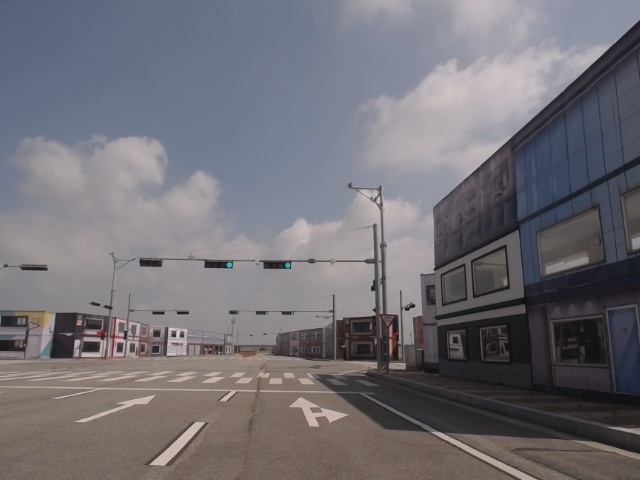straight_green_4: (205, 259, 233, 268), (265, 260, 293, 269)
